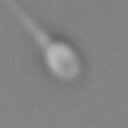normal: (2, 1, 51, 48)
